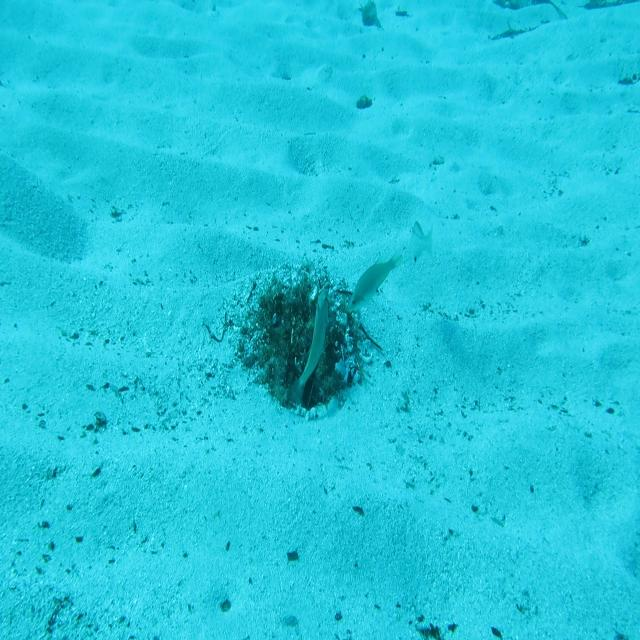LF: (287, 288, 330, 404)
female: (408, 220, 434, 264)
nest: (231, 249, 366, 408)
other_fish: (342, 248, 410, 314)
